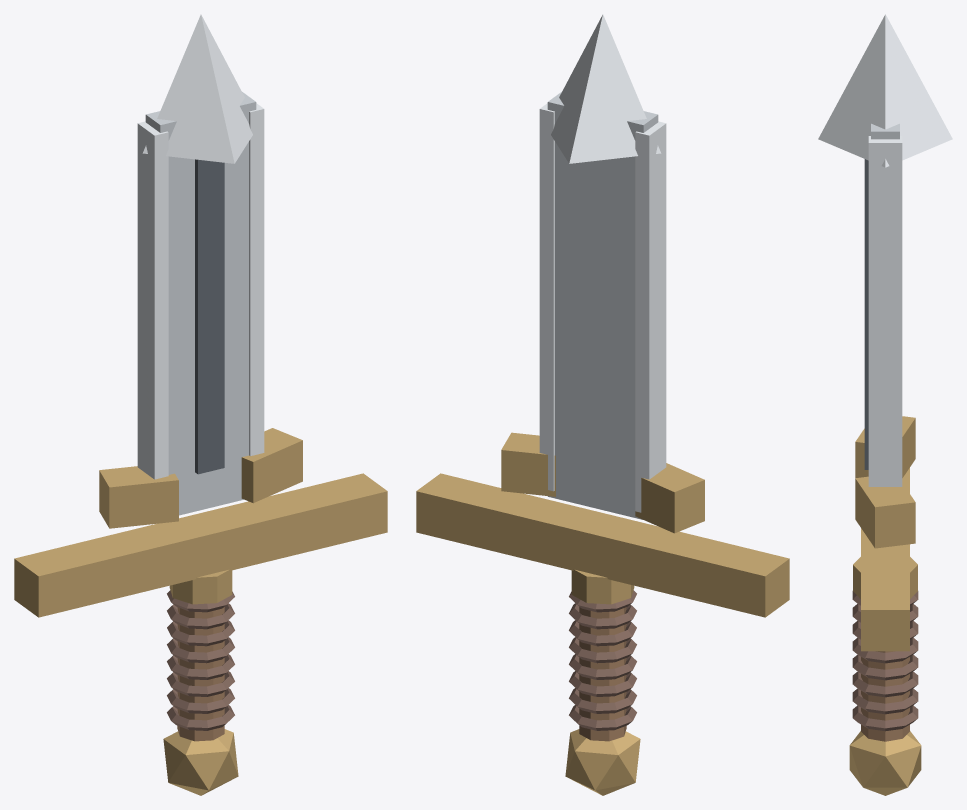
File: great_sword.glb
The picture shows the model from 3 angles, left to right: view 1: azimuth 30°, elevation 25°; view 2: azimuth 150°, elevation 25°; view 3: azimuth 270°, elevation 25°; orthographic projection.
Parts seen in each view (by area): view 1: Crossguard.005, Blade.005, EdgeLeft.005, Fuller.007, BladePoint.005, EdgeRight.005, SideLug_-1, Pommel.005, SideLug_1, GripCore.005, GripFerrule.005, GripWrap_0.015 (+6 smaller); view 2: Blade.005, Crossguard.005, EdgeLeft.005, BladePoint.005, EdgeRight.005, Pommel.005, SideLug_-1, GripCore.005, SideLug_1, GripFerrule.005, GripWrap_0.015, GripWrap_1.015 (+5 smaller); view 3: EdgeRight.005, BladePoint.005, Crossguard.005, Pommel.005, SideLug_1, GripCore.005, Fuller.007, SideLug_-1, GripWrap_2.015, GripWrap_1.015, GripWrap_3.015, GripWrap_0.015 (+3 smaller).
Boxes of the visible parts, <box> form: Crossguard.005: <box>14,473,387,617</box>; Blade.005: <box>145,92,256,515</box>; EdgeLeft.005: <box>137,121,168,479</box>; Fuller.007: <box>195,159,224,474</box>; BladePoint.005: <box>142,14,252,163</box>; EdgeRight.005: <box>249,103,264,456</box>; SideLug_-1: <box>99,466,178,528</box>; Pommel.005: <box>163,729,238,795</box>; SideLug_1: <box>241,428,302,503</box>; GripCore.005: <box>177,607,224,741</box>; GripFerrule.005: <box>169,569,232,604</box>; GripWrap_0.015: <box>167,705,234,730</box>; Blade.005: <box>547,92,658,519</box>; Crossguard.005: <box>416,473,789,617</box>; EdgeLeft.005: <box>635,121,666,512</box>; BladePoint.005: <box>551,14,661,163</box>; EdgeRight.005: <box>539,103,554,491</box>; Pommel.005: <box>565,729,640,795</box>; SideLug_-1: <box>635,463,704,533</box>; GripCore.005: <box>579,607,626,741</box>; SideLug_1: <box>501,432,555,496</box>; GripFerrule.005: <box>571,569,634,604</box>; GripWrap_0.015: <box>569,705,636,730</box>; GripWrap_1.015: <box>569,688,636,713</box>; EdgeRight.005: <box>868,136,902,486</box>; BladePoint.005: <box>818,14,952,167</box>; Crossguard.005: <box>861,468,909,651</box>; Pommel.005: <box>849,731,921,795</box>; SideLug_1: <box>855,476,915,548</box>; GripCore.005: <box>861,651,909,741</box>; Fuller.007: <box>864,159,868,469</box>; SideLug_-1: <box>855,416,915,478</box>; GripWrap_2.015: <box>852,671,918,697</box>; GripWrap_1.015: <box>852,688,918,714</box>; GripWrap_3.015: <box>852,654,918,680</box>; GripWrap_0.015: <box>852,705,918,731</box>.
Size of the model in its own units: 1.24 by 2.65 by 0.4148.
